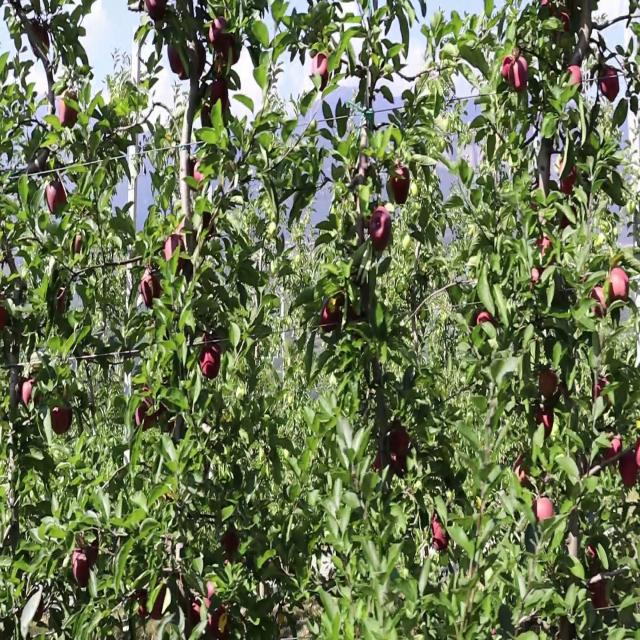apple: (140, 263, 163, 309), (369, 207, 392, 246), (208, 15, 233, 50), (70, 547, 92, 586), (507, 55, 530, 92), (44, 181, 68, 216), (50, 400, 75, 433), (165, 230, 186, 269), (59, 88, 78, 131), (608, 265, 630, 302), (390, 167, 410, 206), (599, 67, 620, 102), (618, 452, 639, 486), (200, 345, 222, 377), (167, 38, 184, 78), (312, 52, 331, 87), (530, 496, 554, 522), (428, 517, 446, 551), (537, 369, 557, 397), (590, 285, 608, 316), (144, 0, 166, 23), (563, 64, 583, 88), (22, 379, 38, 406), (501, 55, 511, 78), (0, 301, 5, 330)
